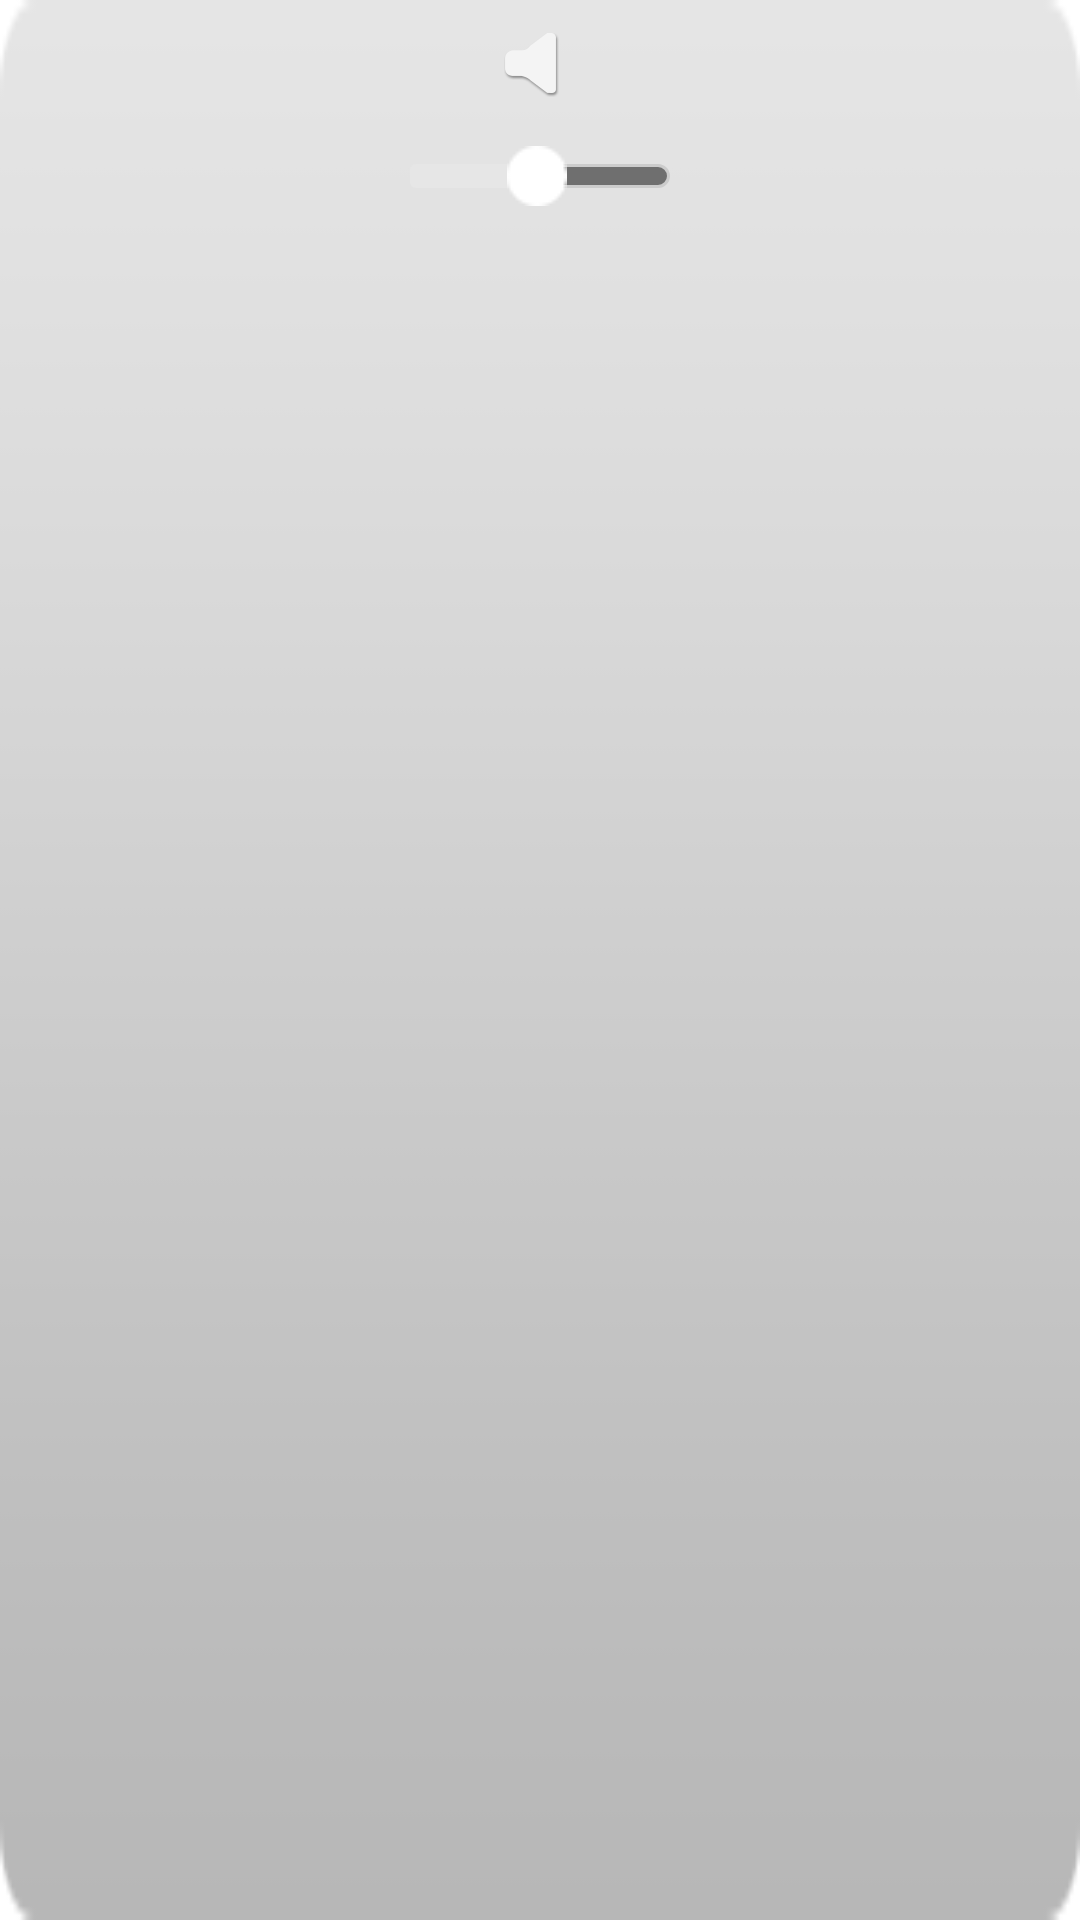

Where icons sit on this 1080×1920 app screen, as [x1, y1, x2, y2]:
volume unmute: [506, 36, 558, 96]
